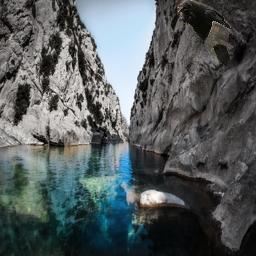Crow: (177, 0, 231, 66)
